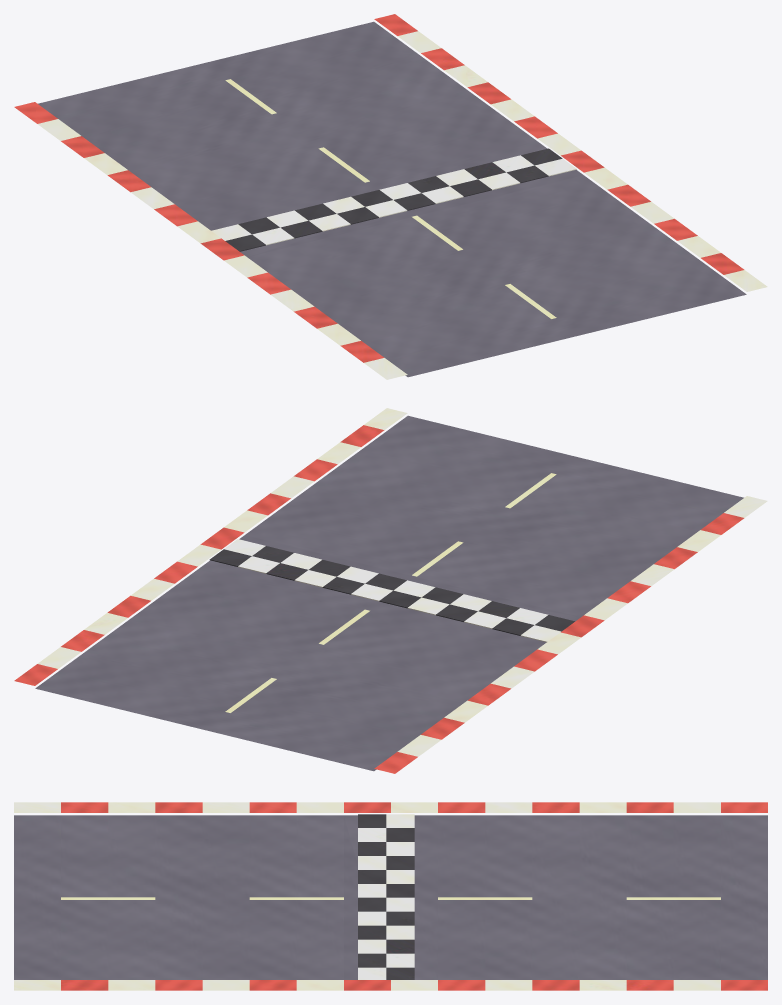
Rendered from race_road_grid.glb.
The picture shows the model from 3 angles, top to bottom: view 1: azimuth 30°, elevation 25°; view 2: azimuth 150°, elevation 25°; view 3: azimuth 270°, elevation 25°; orthographic projection.
Visible parts, largest first — view 1: Body; view 2: Body; view 3: Body.
Boxes of the visible parts, bbox=[...] form: Body: bbox=[14, 14, 767, 379]; Body: bbox=[14, 408, 767, 773]; Body: bbox=[14, 802, 767, 990].
Bounding box in the file's own units: 4.72 × 0.03 × 8.
Materials: 1 (1 with a texture image).
